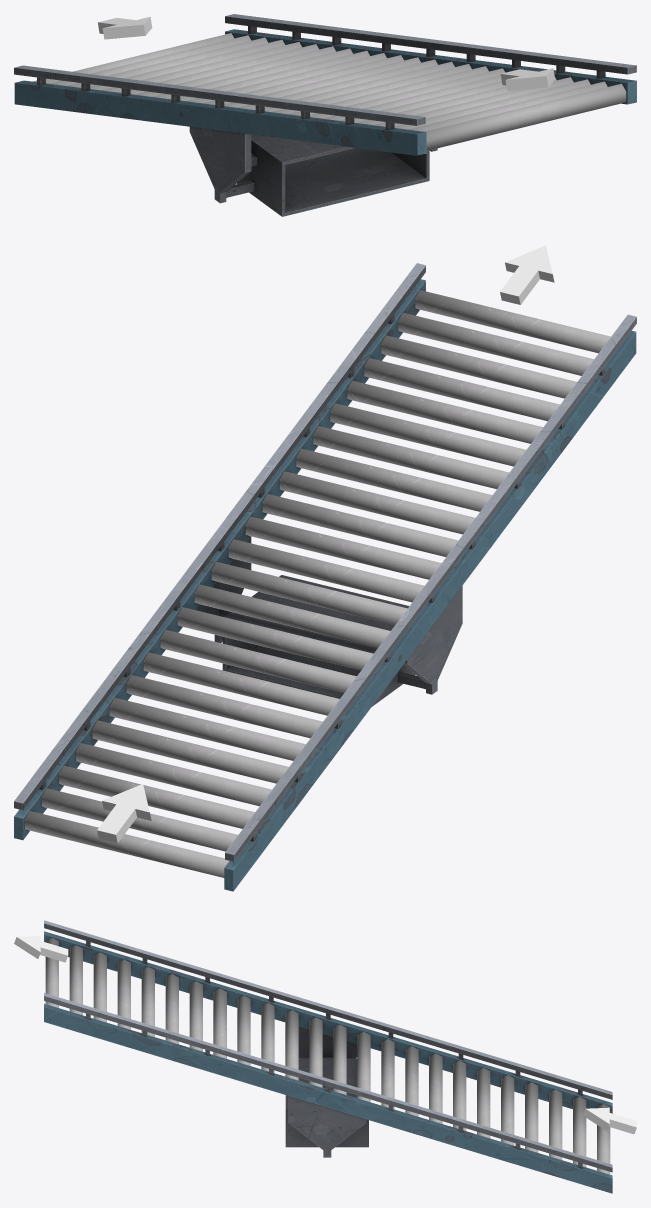
The model's file is RollerConveyor_up.glb.
3 views of the same model, one above another, from view 1: azimuth 30°, elevation 25°; view 2: azimuth 150°, elevation 25°; view 3: azimuth 270°, elevation 25° (orthographic). The views are drawn at different scales.
Parts seen in each view (by area): view 1: RollerConveyor_up, ghostarrow, ghostarrow (1); view 2: RollerConveyor_up, ghostarrow (1), ghostarrow; view 3: RollerConveyor_up, ghostarrow, ghostarrow (1).
Boxes of the visible parts, x1,y1,x2,y2 form: RollerConveyor_up: (14,14,636,216); ghostarrow: (500,68,554,90); ghostarrow (1): (97,16,152,39); RollerConveyor_up: (14,263,636,891); ghostarrow (1): (97,784,151,843); ghostarrow: (500,245,554,304); RollerConveyor_up: (44,920,612,1193); ghostarrow: (14,936,68,962); ghostarrow (1): (583,1107,636,1134).
Size of the model in its own units: 0.9463 by 1.28 by 3.29.
Materials: 3 (2 with a texture image).
